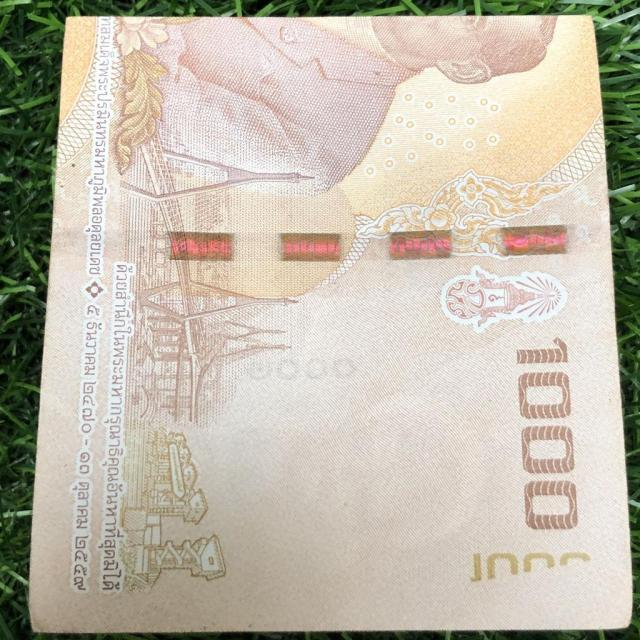THAI1000: (29, 17, 631, 632)
